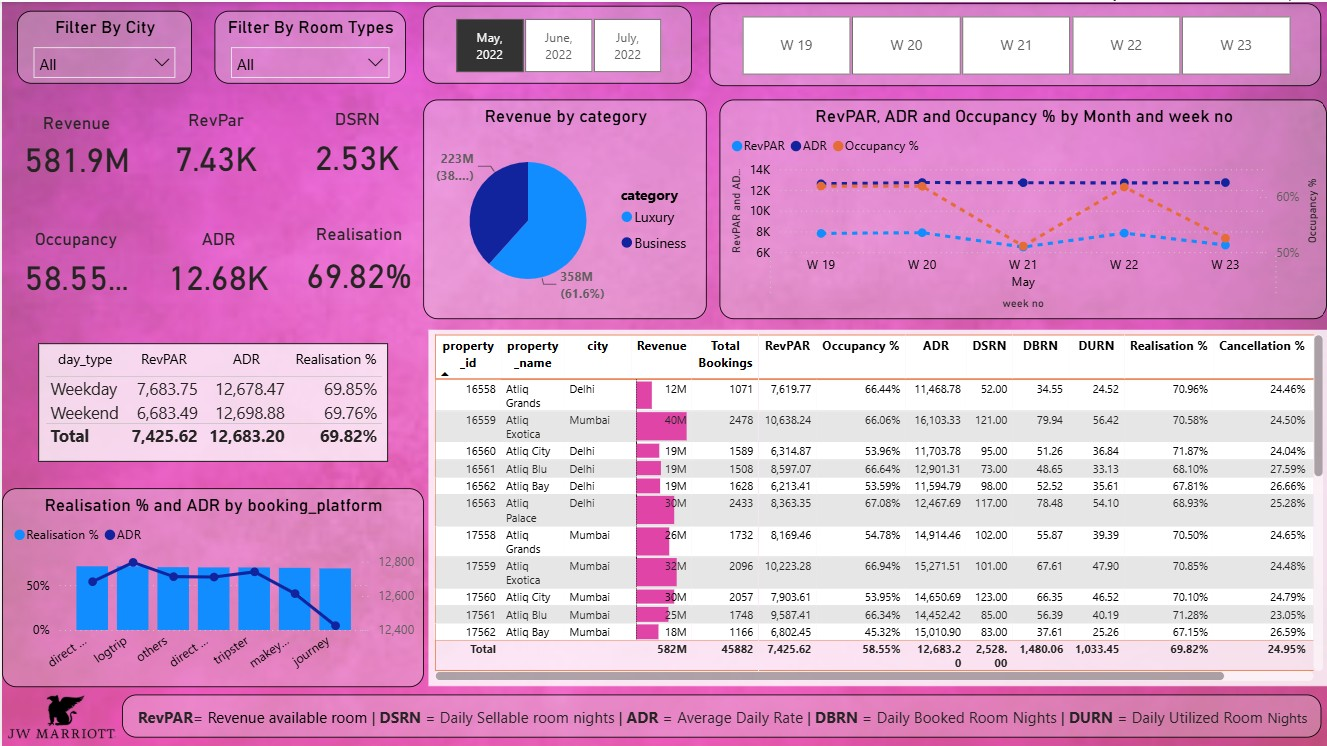

What the dashboard file says about the page in this screenshot:
{"tool":"powerbi","page":{"name":"Page 1","canvas":[1280,720],"ordinal":0},"visuals":[{"type":"tableEx","fields":{"Values":["dim_hotels.property_id","dim_hotels.property_name","dim_hotels.city","New_Measures.Revenue","New_Measures.Total Bookings","New_Measures.RevPAR","New_Measures.Occupancy %","New_Measures.ADR","New_Measures.DSRN","New_Measures.DBRN","New_Measures.DURN","New_Measures.Realisation %"]},"box":[411.8,316.6,868.8,343.9],"z":0},{"type":"pieChart","fields":{"Category":["dim_hotels.category"],"Y":["New_Measures.Revenue"]},"box":[407.1,94,273.8,211.9],"z":1000},{"type":"slicer","title":"Filter By City","fields":{"Values":["dim_hotels.city"]},"box":[14.3,8.3,169,70.2],"z":2000},{"type":"slicer","title":"Filter By Room Types","fields":{"Values":["dim_rooms.room_class"]},"box":[204.8,8.3,184.5,70.2],"z":3000},{"type":"slicer","fields":{"Values":["dim_date.week no"]},"box":[683.1,1.2,590.3,79.7],"z":4000},{"type":"slicer","title":"Filter By Room Types","fields":{"Values":["dim_date.mmm yy"]},"box":[407,3.6,259.4,75],"z":5000},{"type":"card","title":"Revenue","fields":{"Values":["New_Measures.Revenue"]},"box":[14.3,105.9,115.4,69],"z":6000},{"type":"lineStackedColumnComboChart","fields":{"Y":["New_Measures.Realisation %"],"Y2":["New_Measures.ADR"],"Category":["fact_booking.booking_platform"]},"box":[0,468.9,407,191.6],"z":7000},{"type":"lineChart","fields":{"Y":["New_Measures.RevPAR","New_Measures.ADR"],"Y2":["New_Measures.Occupancy %"],"Category":["dim_date.mmm yy.Variation.Date Hierarchy.Month","dim_date.week no"]},"box":[692.9,94,586.9,211.9],"z":8000},{"type":"card","title":"RevPar","fields":{"Values":["New_Measures.RevPAR"]},"box":[146.4,103.5,121.4,72.6],"z":9000},{"type":"card","title":"Occupancy ","fields":{"Values":["New_Measures.Occupancy %"]},"box":[13.1,217.9,116.7,72.6],"z":10000},{"type":"card","title":"DSRN","fields":{"Values":["New_Measures.DSRN"]},"box":[288,102.3,109.5,72.6],"z":11000},{"type":"card","title":"ADR","fields":{"Values":["New_Measures.ADR"]},"box":[146.4,217.8,126.1,72.6],"z":12000},{"type":"card","title":"Realisation","fields":{"Values":["New_Measures.Realisation %"]},"box":[282,213,125,77.4],"z":13000},{"type":"tableEx","fields":{"Values":["dim_date.day_type","New_Measures.RevPAR","New_Measures.ADR","New_Measures.Realisation %"]},"box":[34.5,329.7,338,114.2],"z":14000},{"type":"textbox","box":[115.4,668.8,1158,41.7],"z":15000},{"type":"image","box":[0,660.5,115.4,59.5],"z":16000}]}

Visuals, with their boxes in screenshot pixels (x1, y1, x2, y2), scaled from the page's 1280x720 canvas onto the 1327x746 screenshot:
tableEx - dim_hotels.property_id x dim_hotels.property_name: box(427, 328, 1326, 684)
pieChart - dim_hotels.category x New_Measures.Revenue: box(422, 97, 706, 317)
"Filter By City" slicer: box(15, 9, 190, 81)
"Filter By Room Types" slicer: box(212, 9, 404, 81)
slicer - dim_date.week no: box(708, 1, 1320, 84)
"Filter By Room Types" slicer: box(422, 4, 691, 81)
"Revenue" card: box(15, 110, 134, 181)
lineStackedColumnComboChart - New_Measures.Realisation % x New_Measures.ADR: box(0, 486, 422, 684)
lineChart - New_Measures.RevPAR x New_Measures.ADR: box(718, 97, 1326, 317)
"RevPar" card: box(152, 107, 278, 182)
"Occupancy " card: box(14, 226, 135, 301)
"DSRN" card: box(299, 106, 412, 181)
"ADR" card: box(152, 226, 283, 301)
"Realisation" card: box(292, 221, 422, 301)
tableEx - dim_date.day_type x New_Measures.RevPAR: box(36, 342, 386, 460)
textbox: box(120, 693, 1320, 736)
image: box(0, 684, 120, 745)
